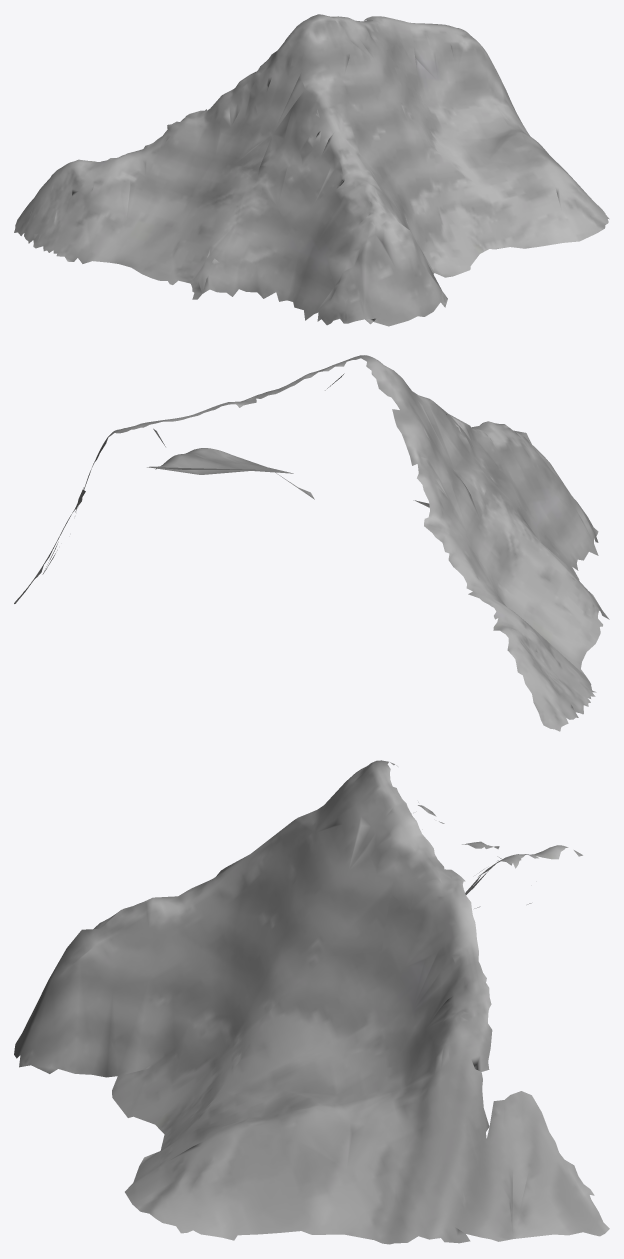
Rendered from mountain-summit-balanced.glb.
The picture shows the model from 3 angles, top to bottom: view 1: azimuth 30°, elevation 25°; view 2: azimuth 150°, elevation 25°; view 3: azimuth 270°, elevation 25°; orthographic projection. The views are drawn at different scales.
Parts seen in each view (by area): view 1: mountain-summit-balanced; view 2: mountain-summit-balanced; view 3: mountain-summit-balanced.
Part boxes in pixels (left/top/right/bottom): mountain-summit-balanced: left=14, top=14, right=609, bottom=326; mountain-summit-balanced: left=14, top=355, right=609, bottom=731; mountain-summit-balanced: left=14, top=760, right=609, bottom=1244.
Bounding box in the file's own units: 1.89 × 0.817 × 1.4.
1 material, 1 textured.
